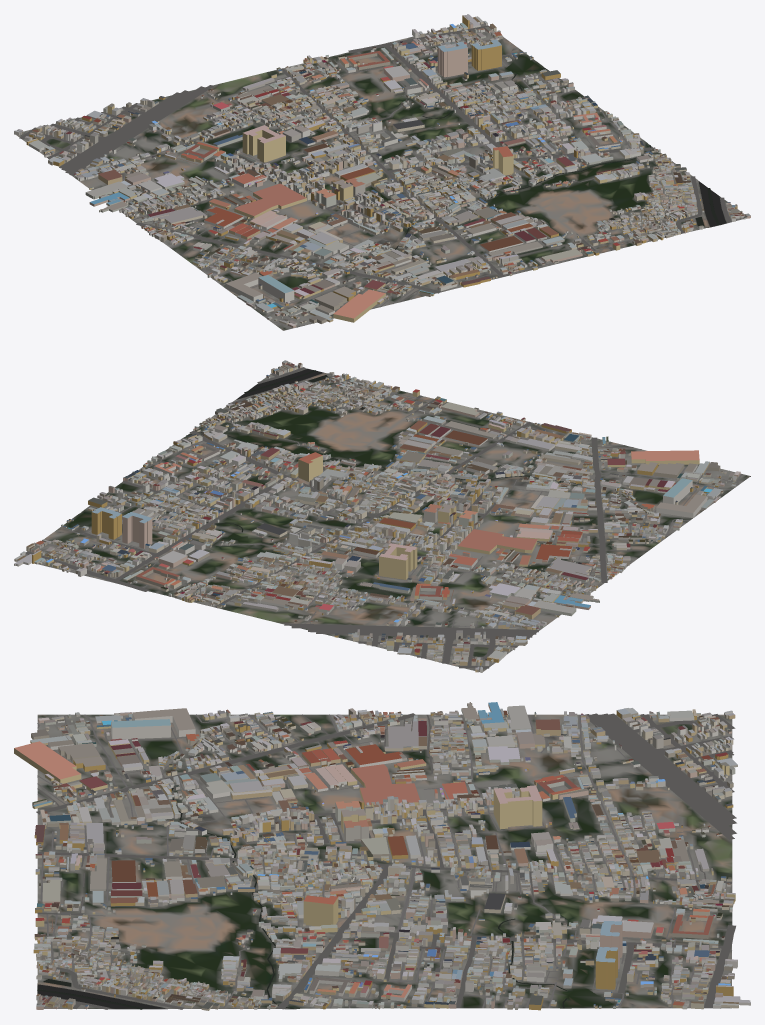
The picture shows the model from 3 angles, top to bottom: view 1: azimuth 30°, elevation 25°; view 2: azimuth 150°, elevation 25°; view 3: azimuth 270°, elevation 25°; orthographic projection. The views are drawn at different scales.
Visible parts, largest first — view 1: buildings, ground, roads, water; view 2: buildings, ground, roads, water; view 3: buildings, ground, roads, water.
Part boxes in pixels (x1,y1,x2,y2): buildings: (14, 14, 750, 327); ground: (14, 24, 744, 330); roads: (19, 25, 741, 328); water: (366, 68, 726, 258); buildings: (14, 360, 740, 672); ground: (25, 365, 750, 671); roads: (25, 367, 743, 668); water: (82, 368, 581, 532); buildings: (14, 702, 750, 1010); ground: (37, 714, 732, 1009); roads: (36, 713, 736, 1009); water: (37, 787, 567, 1009).
Size of the model in its own units: 1459 by 78.98 by 1486.
